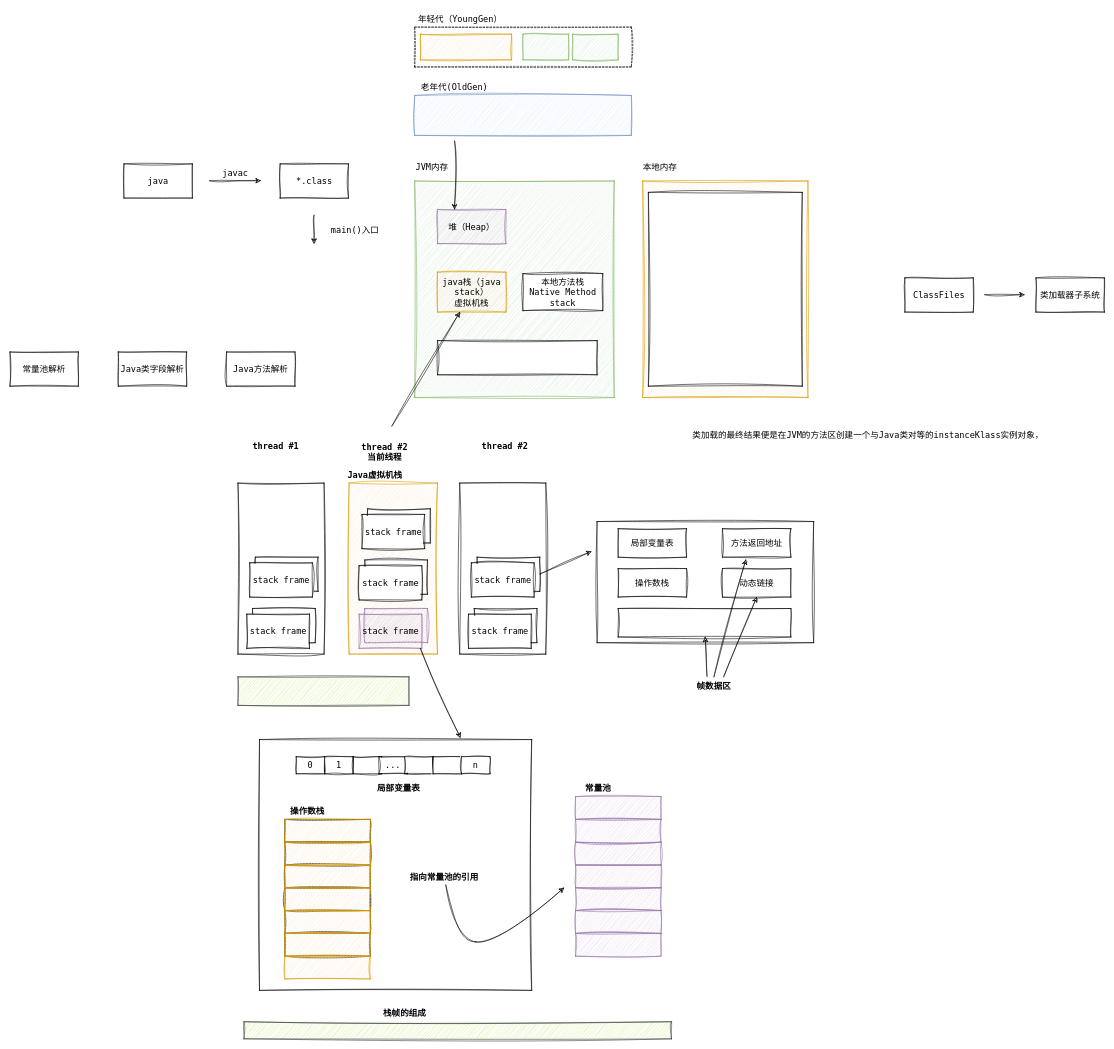
This 1114x1049 diagram has some shape labels left out. Each missing label, with the centre of its shape:
"一些附加信息" goes at pixel 704 622.
"元空间(Metaspace)" goes at pixel 725 289.
"每个栈帧拥有自己的局部变量表（Local Variable）、操作数栈（Operand Stack）和指向常量池的引用" goes at pixel 457 1030.
"每个线程都有自己的 Java虚拟机栈 每个栈（Java虚拟机栈）拥有自己的 栈帧" goes at pixel 323 690.
"程序计数器（Program Counter Register）" goes at pixel 517 357.
